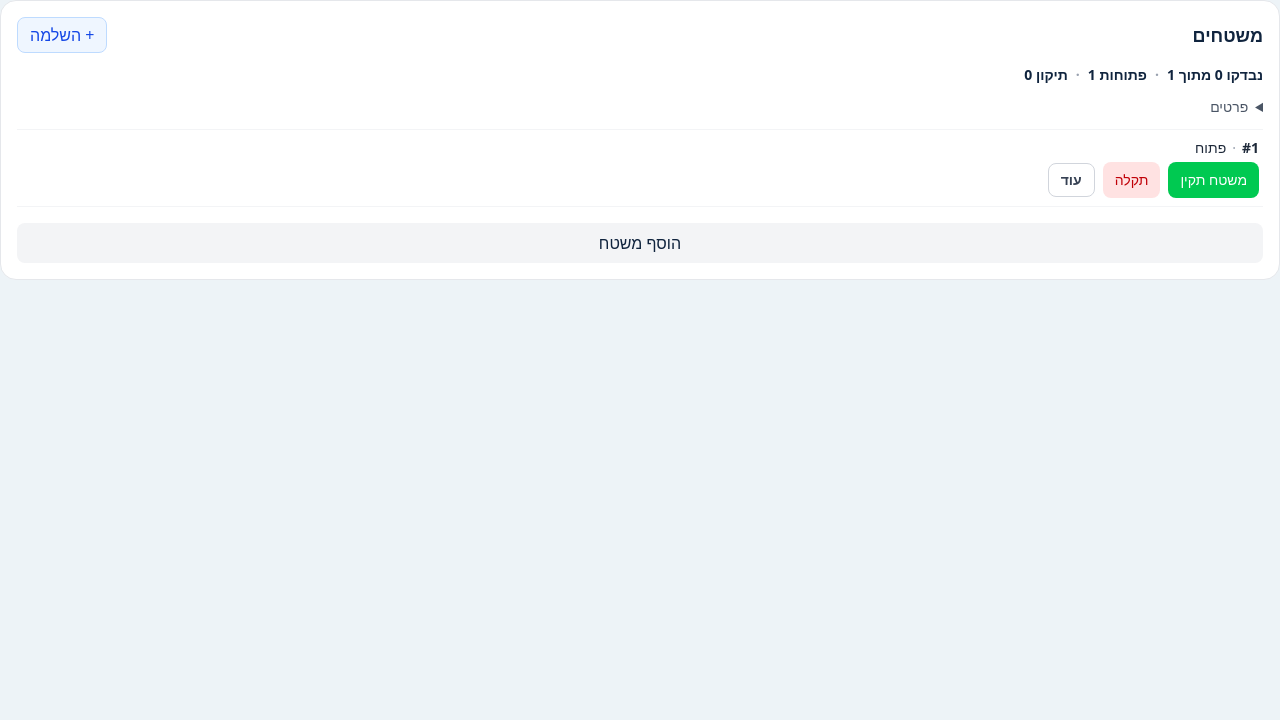
Test: ManualOrderCheckUnitsPanel - Stockout Flow Refinement › selecting "דיווח בלבד" shows stockout report form only
The image size is (1280, 720).
Click the button "תקלה".
click(1132, 180)  # box [1103,162,1160,198]
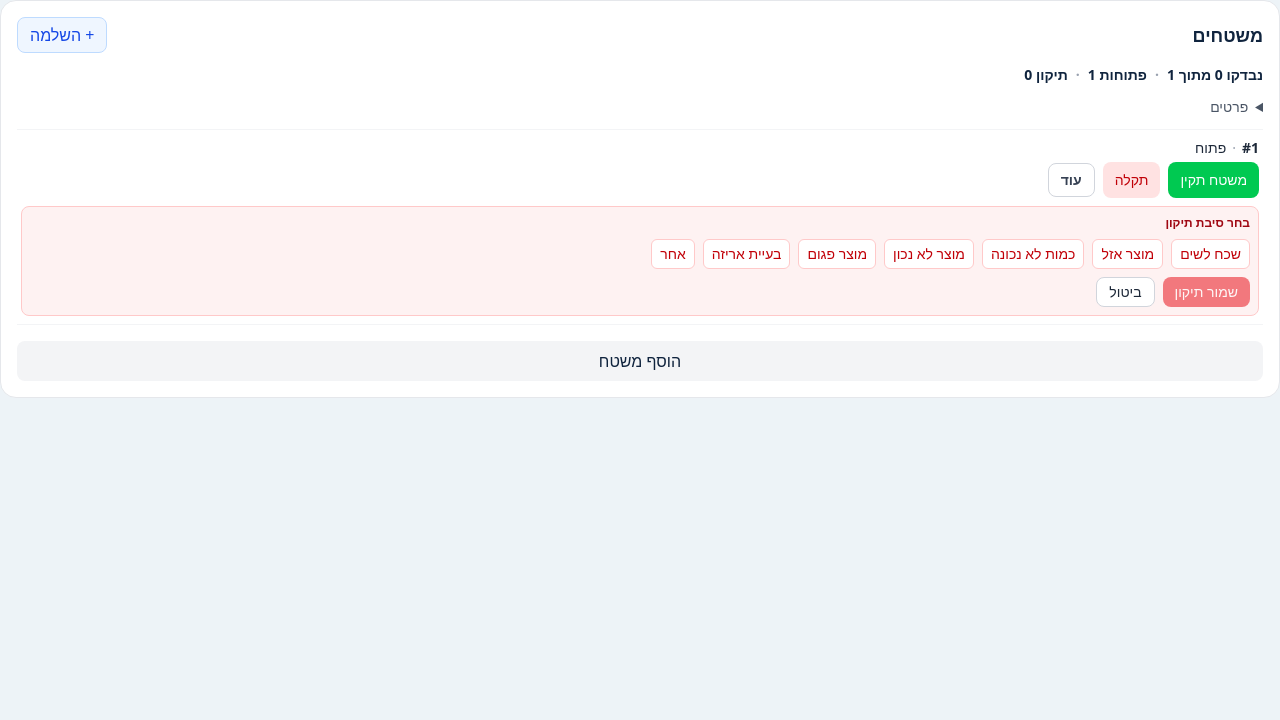
Click the button "מוצר אזל".
click(1128, 254)  # box [1092,239,1163,269]
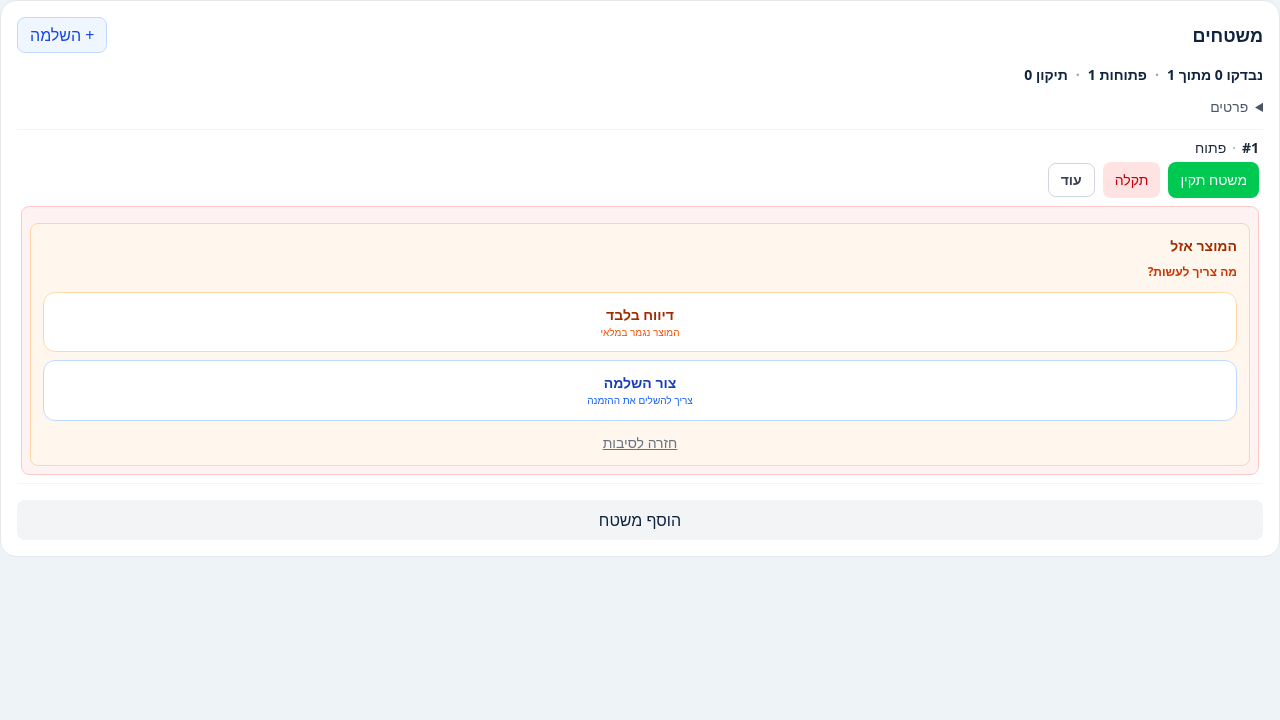
Click the text "דיווח בלבד".
click(640, 315)  # box [606,305,674,325]
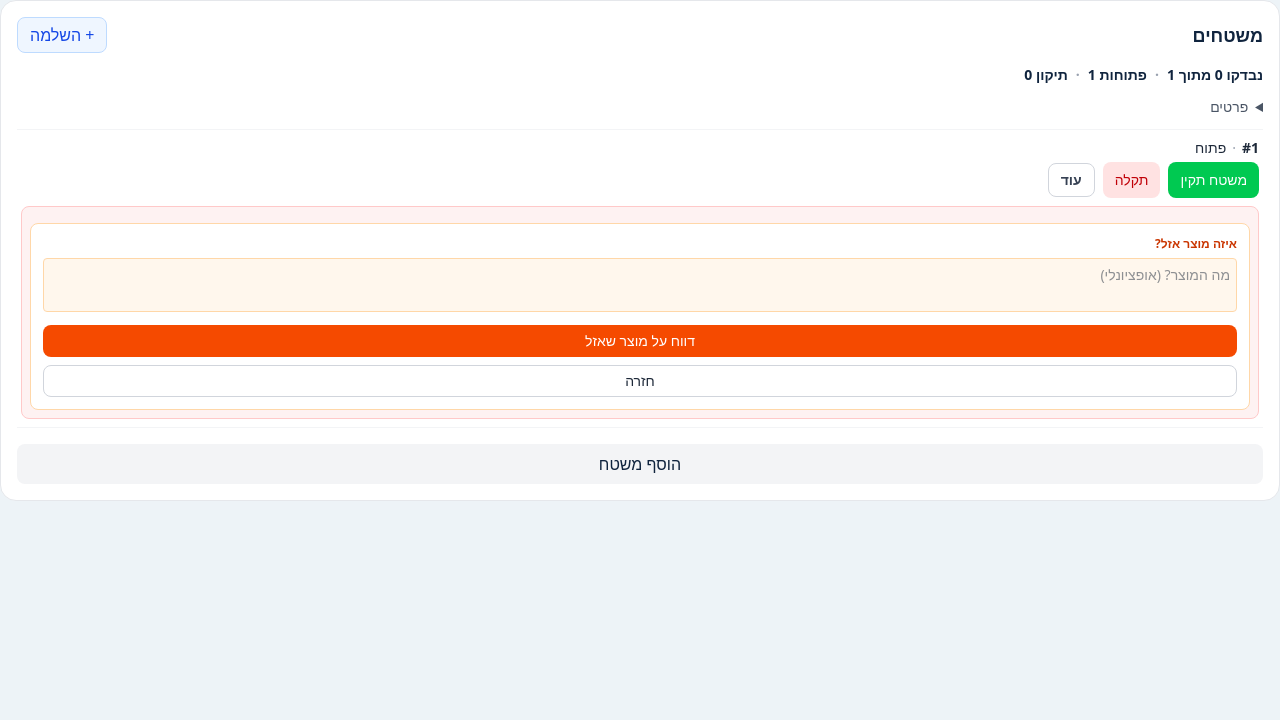
Expected: the text "איזה מוצר אזל?" is shown, [1155,235,1237,252]
Expected: the button "דווח על מוצר שאזל" is shown, [43,325,1237,357]
Expected: the text "מה צריך לעשות?" is gone
